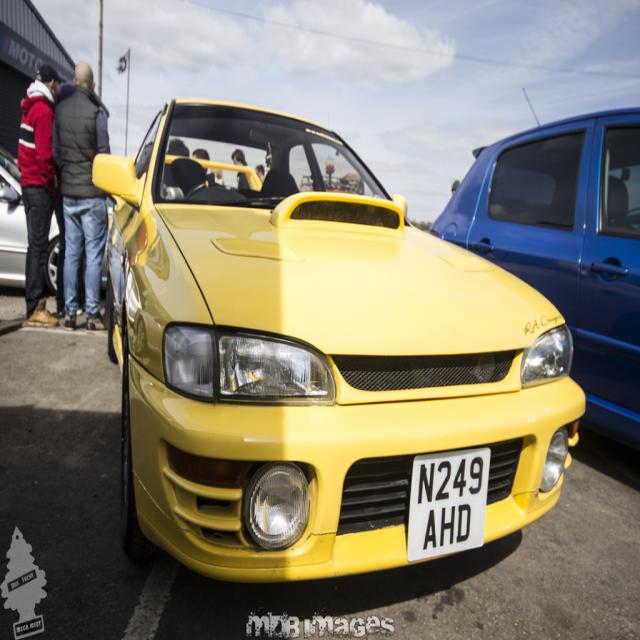car: (89, 90, 587, 590)
